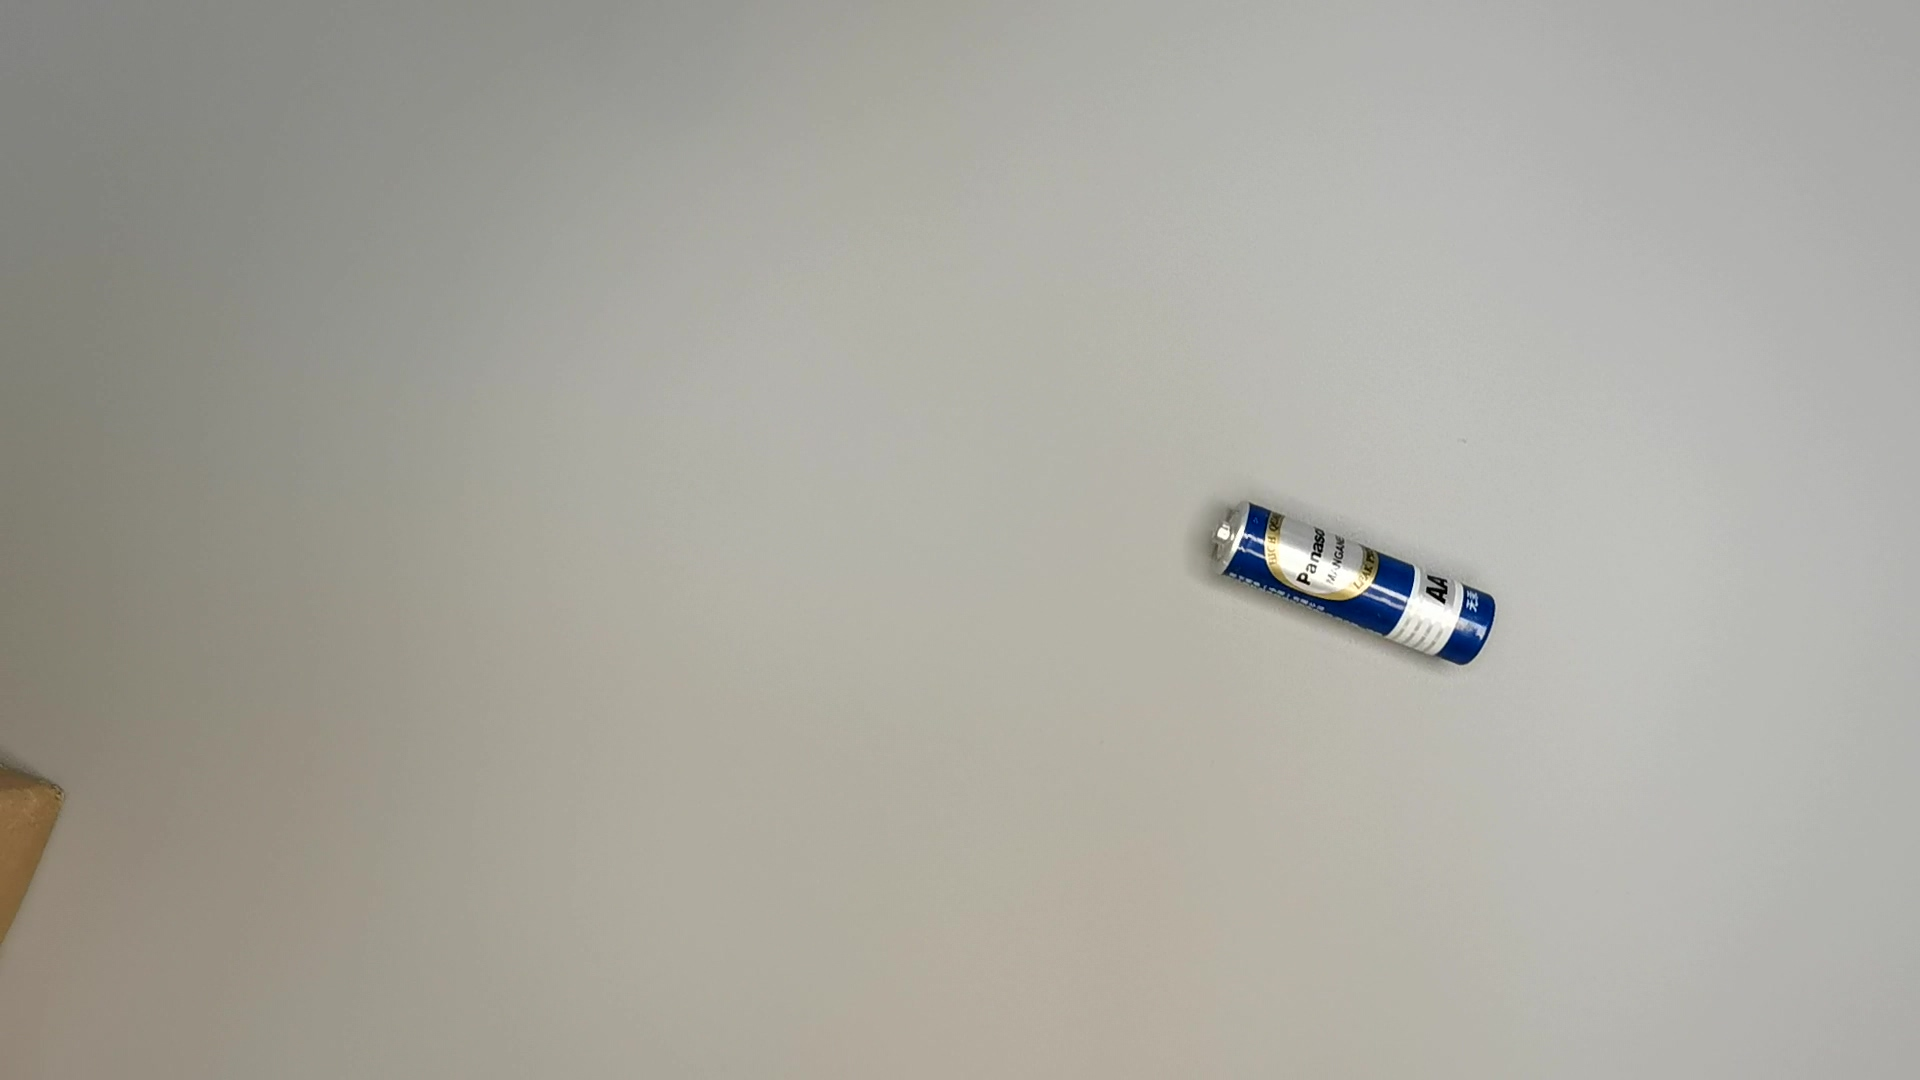battery: (1211, 497, 1499, 669)
